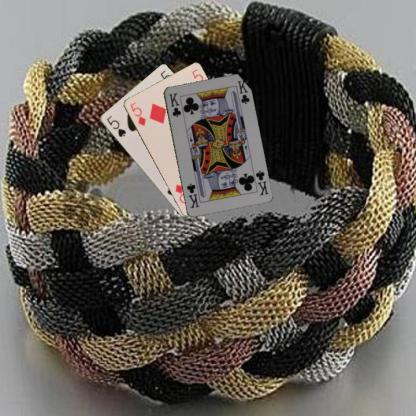5d: (127, 99, 147, 127)
5s: (104, 113, 127, 138)
Kc: (250, 168, 269, 196), (166, 90, 182, 119)
